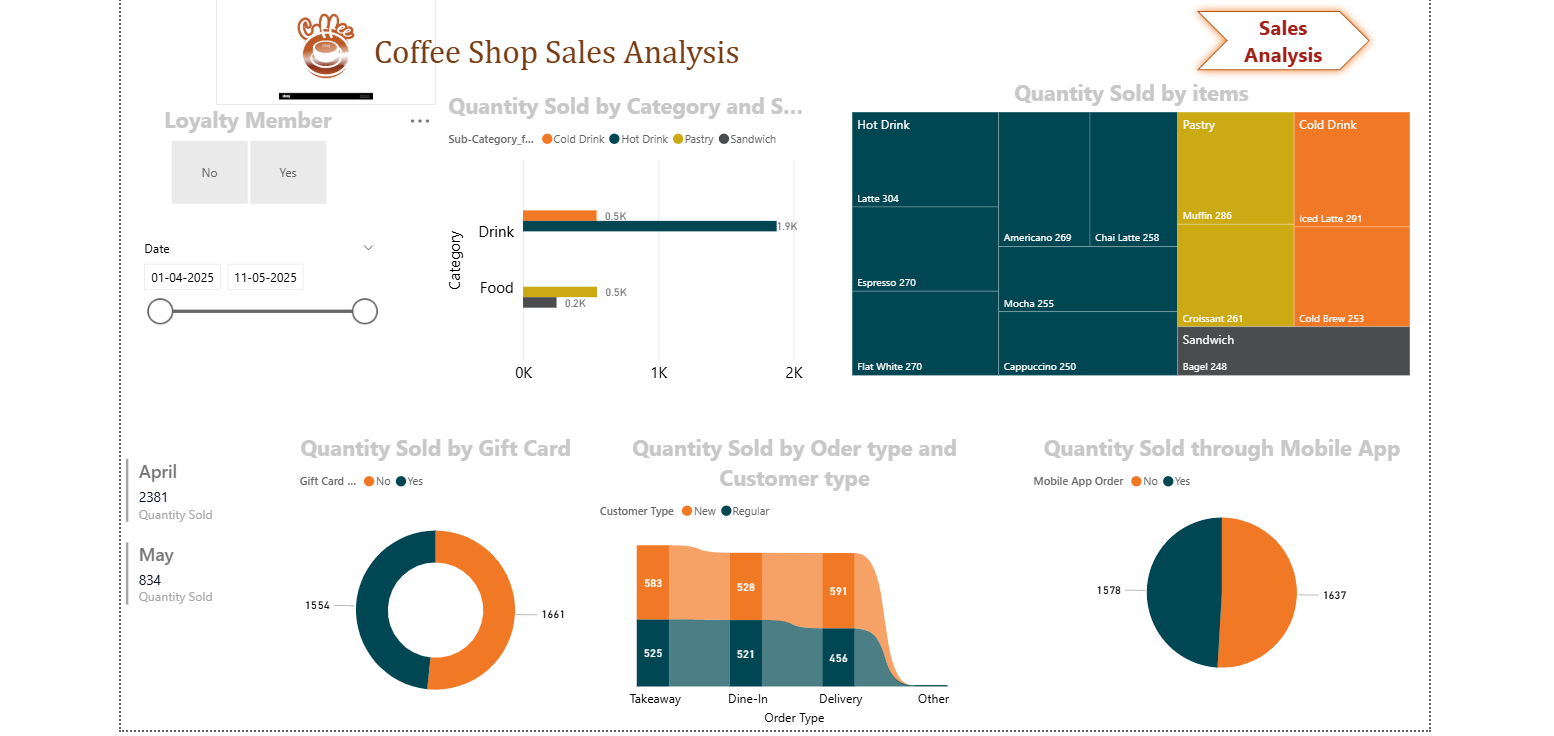

This screenshot's page, from the dashboard's own definition file:
{"tool":"powerbi","page":{"name":"Quantity Analysis","canvas":[1280,720],"ordinal":1},"visuals":[{"type":"clusteredBarChart","title":"Quantity Sold by Category and Sub-Category","fields":{"Category":["coffeeshop_transactions.Category"],"Y":["Sum(coffeeshop_transactions.Quantity)"],"Series":["coffeeshop_transactions.Sub-Category_fixed"]},"box":[315.6,94.7,367.8,296.4],"z":0},{"type":"treemap","title":"Quantity Sold by items","fields":{"Group":["coffeeshop_transactions.Sub-Category_fixed"],"Values":["Sum(coffeeshop_transactions.Quantity)"],"Details":["coffeeshop_transactions.Item"]},"box":[710.8,82.3,555.7,296.4],"z":1000},{"type":"ribbonChart","title":"Quantity Sold by Oder type and Customer type","fields":{"Y":["Sum(coffeeshop_transactions.Quantity)"],"Category":["coffeeshop_transactions.Order Type"],"Series":["coffeeshop_transactions.Customer Type"]},"box":[463.8,429.5,391.1,290.9],"z":2000},{"type":"donutChart","title":"Quantity Sold by Gift Card","fields":{"Category":["coffeeshop_transactions.Gift Card Used"],"Y":["Sum(coffeeshop_transactions.Quantity)"]},"box":[170.2,429.5,275.8,290.9],"z":3000},{"type":"pieChart","title":"Quantity Sold through Mobile App","fields":{"Category":["coffeeshop_transactions.Mobile App Order"],"Y":["coffeeshop_transactions.Quantity Sold"]},"box":[887.8,429.5,378.7,256.6],"z":4000},{"type":"slicer","title":"Loyalty Member","fields":{"Values":["coffeeshop_transactions.Loyalty Member"]},"box":[23.3,107,201.7,104.3],"z":5000},{"type":"multiRowCard","fields":{"Values":["coffeeshop_transactions.Month Name","coffeeshop_transactions.Quantity Sold"]},"box":[0,450.1,145.5,186.6],"z":6000},{"type":"slicer","fields":{"Values":["coffeeshop_transactions.Date"]},"box":[9.6,236,249.7,123.5],"z":7000},{"type":"shape","box":[1044.3,8.2,185.2,74.1],"z":8000},{"type":"image","box":[93.3,0,215.4,108.4],"z":9000},{"type":"textbox","box":[212.7,35.7,426.8,72.7],"z":10000}]}

Visuals, with their boxes on the page's 1280x720 design canvas (x1, y1, x2, y2). These are canvas units, not pixel positions in the 1554x736 screenshot, which may show the page scaled, cropped or inside an application window:
"Quantity Sold by Category and Sub-Category" clusteredBarChart: crop(316, 95, 683, 391)
"Quantity Sold by items" treemap: crop(711, 82, 1266, 379)
"Quantity Sold by Oder type and Customer type" ribbonChart: crop(464, 430, 855, 720)
"Quantity Sold by Gift Card" donutChart: crop(170, 430, 446, 720)
"Quantity Sold through Mobile App" pieChart: crop(888, 430, 1266, 686)
"Loyalty Member" slicer: crop(23, 107, 225, 211)
multiRowCard - coffeeshop_transactions.Month Name x coffeeshop_transactions.Quantity Sold: crop(0, 450, 146, 637)
slicer - coffeeshop_transactions.Date: crop(10, 236, 259, 360)
shape: crop(1044, 8, 1230, 82)
image: crop(93, 0, 309, 108)
textbox: crop(213, 36, 640, 108)
